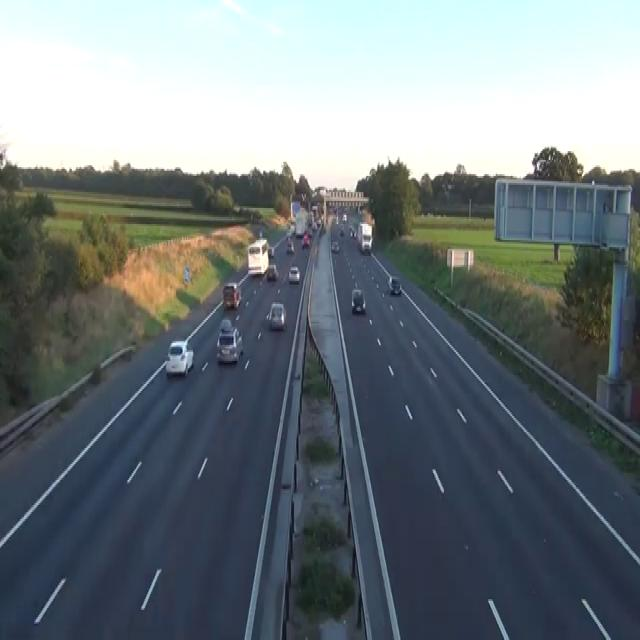Car: (164, 340, 194, 375), (216, 325, 243, 363), (266, 300, 286, 330), (222, 281, 241, 309), (257, 236, 274, 258), (351, 288, 365, 313), (387, 274, 401, 295), (288, 265, 300, 283), (266, 263, 278, 281), (219, 316, 232, 332), (361, 238, 371, 254), (257, 236, 268, 249), (301, 235, 310, 247), (331, 240, 339, 252), (267, 245, 274, 258), (286, 242, 294, 252), (348, 226, 355, 236), (290, 224, 295, 235), (286, 231, 292, 240), (342, 214, 347, 222), (339, 228, 344, 235), (258, 228, 262, 236)
Truck: (247, 237, 269, 276), (356, 222, 372, 254), (294, 212, 306, 236)
